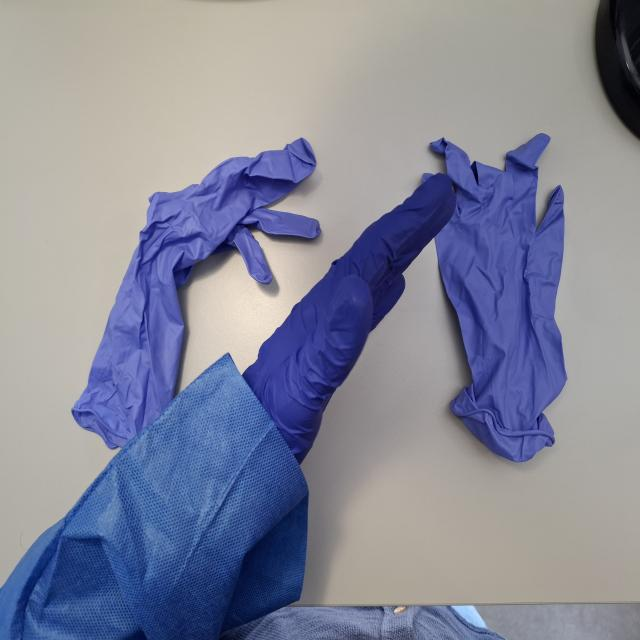glove_on: (230, 169, 460, 486)
